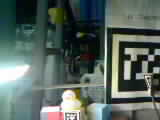duck: (45, 82, 84, 112)
